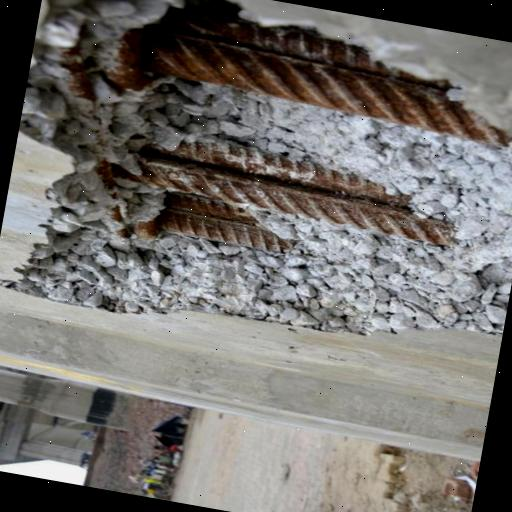spalling: (5, 0, 512, 324)
